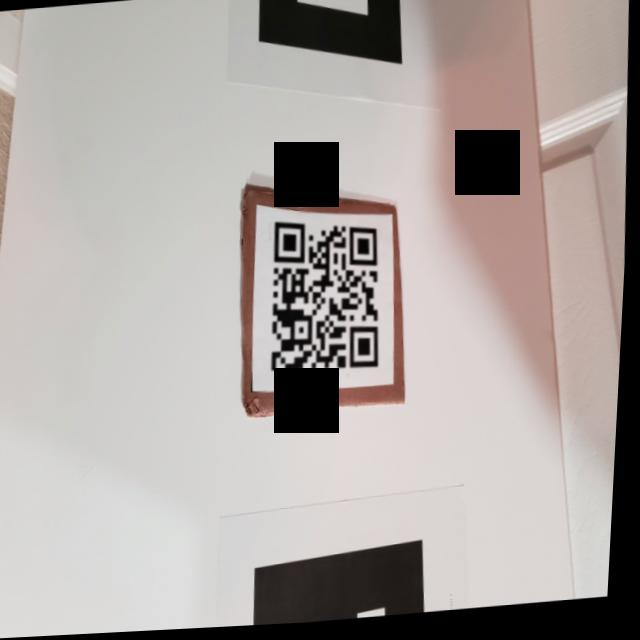QR_CODE: (255, 206, 398, 396)
